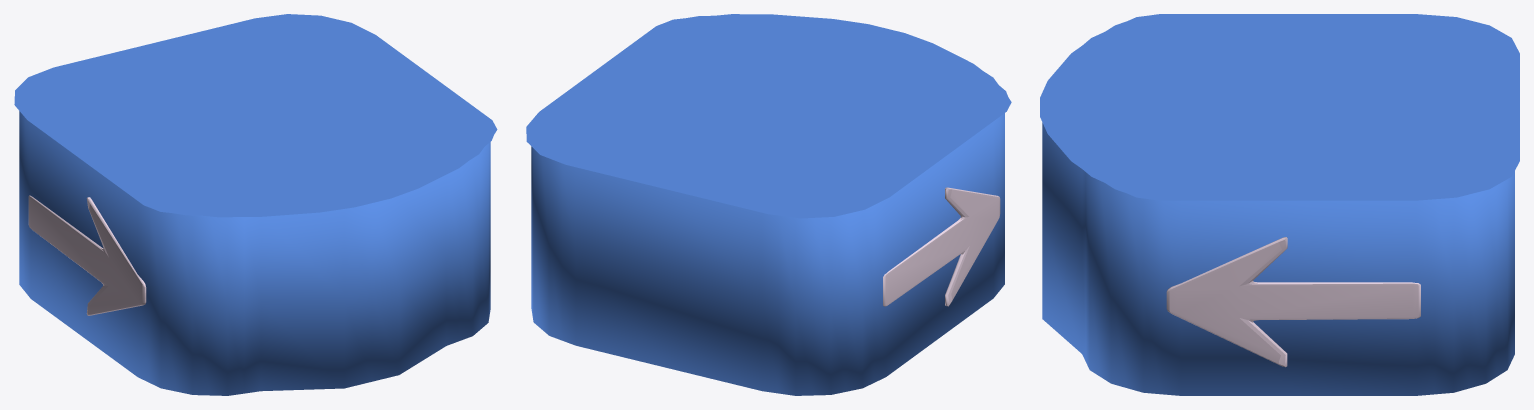
Rendered from conveyor2.fbx.
The picture shows the model from 3 angles, left to right: view 1: azimuth 30°, elevation 25°; view 2: azimuth 150°, elevation 25°; view 3: azimuth 270°, elevation 25°; orthographic projection. The views are drawn at different scales.
Visible parts, largest first — view 1: Base, Conveyor Part, Arrows; view 2: Base, Conveyor Part, Arrows; view 3: Conveyor Part, Base, Arrows.
Boxes of the visible parts, x1,y1,x2,y2 form: Base: [19, 111, 490, 395]; Conveyor Part: [14, 14, 497, 217]; Arrows: [28, 195, 146, 315]; Base: [531, 113, 1004, 395]; Conveyor Part: [526, 14, 1011, 218]; Arrows: [883, 187, 1000, 306]; Conveyor Part: [1040, 14, 1519, 200]; Base: [1042, 122, 1514, 395]; Arrows: [1166, 237, 1420, 367].
Size of the model in its own units: 102 by 50.24 by 111.
